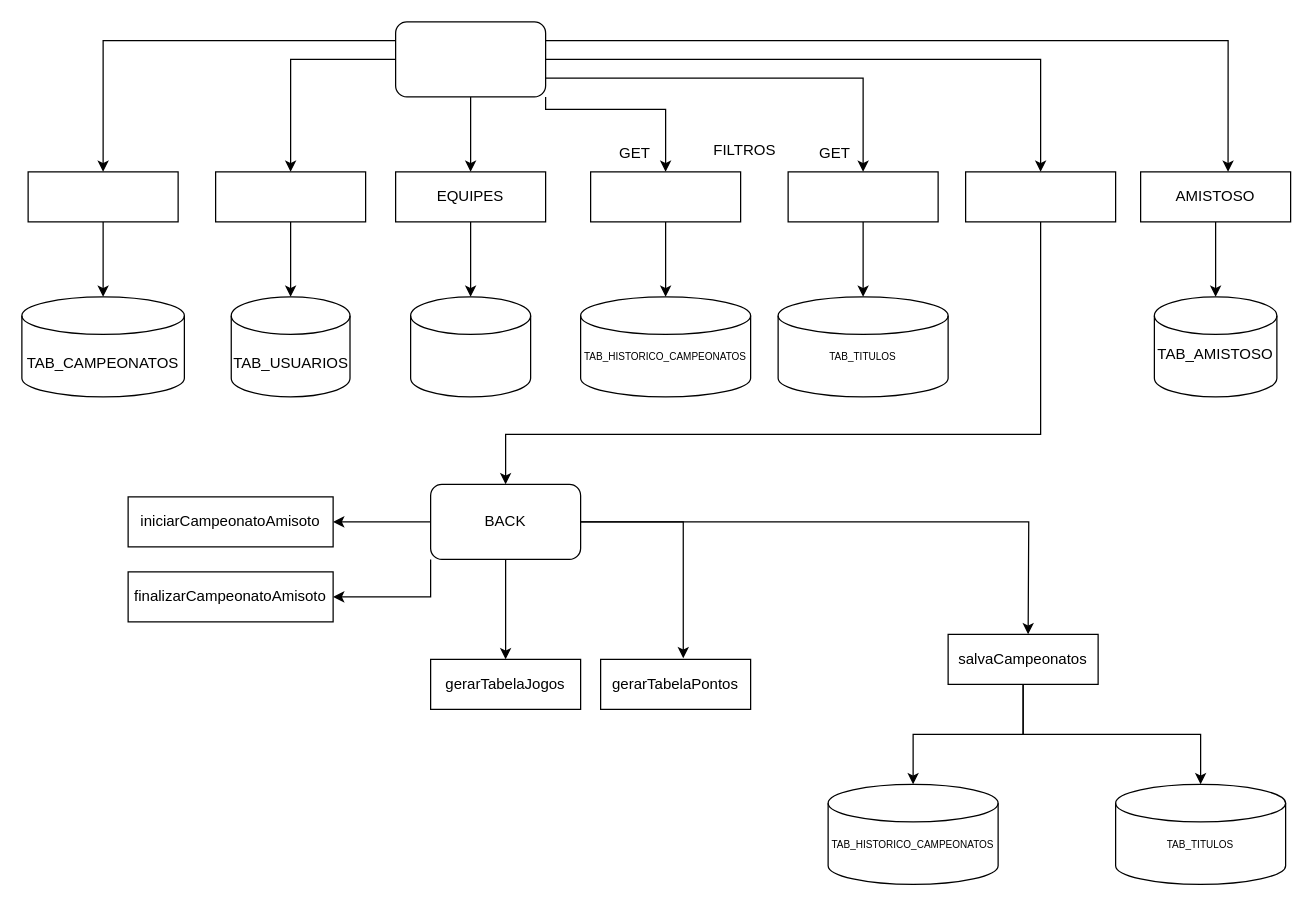
This 1313x906 diagram has some shape labels left out. The box of each missing label's shape, as (x1, y1, x2, y2) in pixels:
CAMPEONATOS: (27, 171, 178, 222)
CUPS: (964, 171, 1116, 222)
FRONT: (394, 21, 546, 97)
HISTORICO DE CAMPEONATO: (589, 171, 741, 222)
TAB _EQUIPES: (409, 296, 531, 397)
TITULOS: (787, 171, 938, 222)
USUARIOS: (214, 171, 366, 222)
